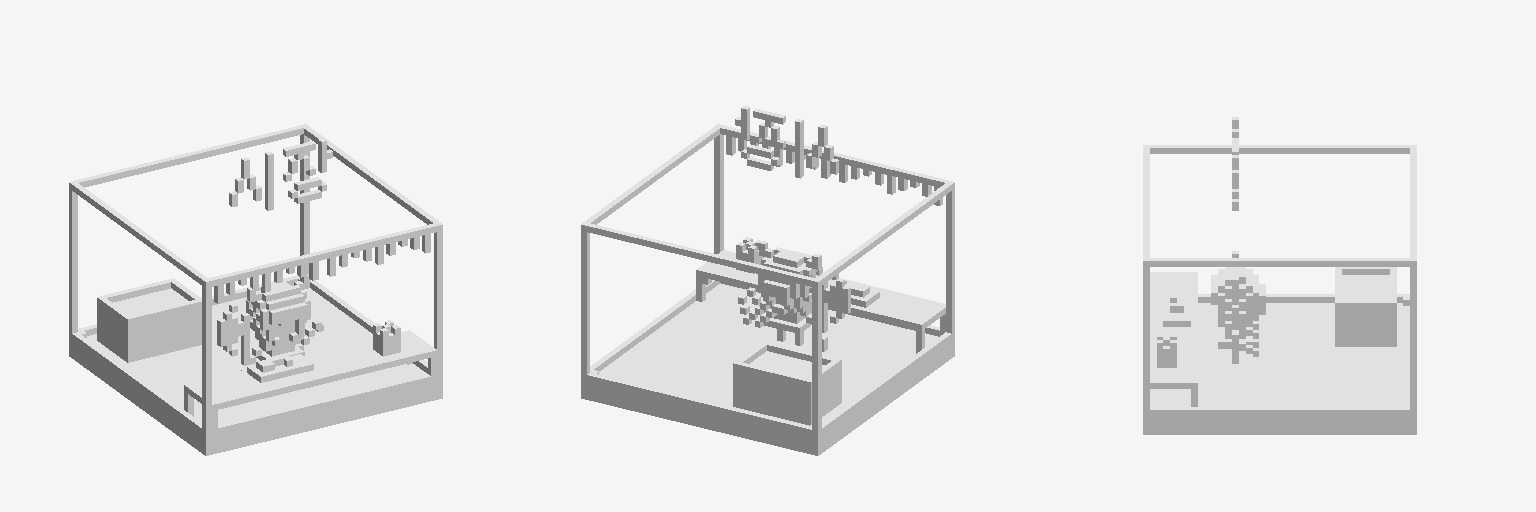
File: boyFishingMarket.obj
3 renders of one model, left to right at view 1: azimuth 30°, elevation 25°; view 2: azimuth 150°, elevation 25°; view 3: azimuth 270°, elevation 25°, orthographic.
Visible parts, largest first — view 1: object 1; view 2: object 1; view 3: object 1.
Boxes of the visible parts, x1=… form: object 1: x1=69, y1=124, x2=442, y2=455; object 1: x1=581, y1=106, x2=954, y2=455; object 1: x1=1143, y1=117, x2=1416, y2=434.
Size of the model in its own units: 4 by 3.9 by 4.